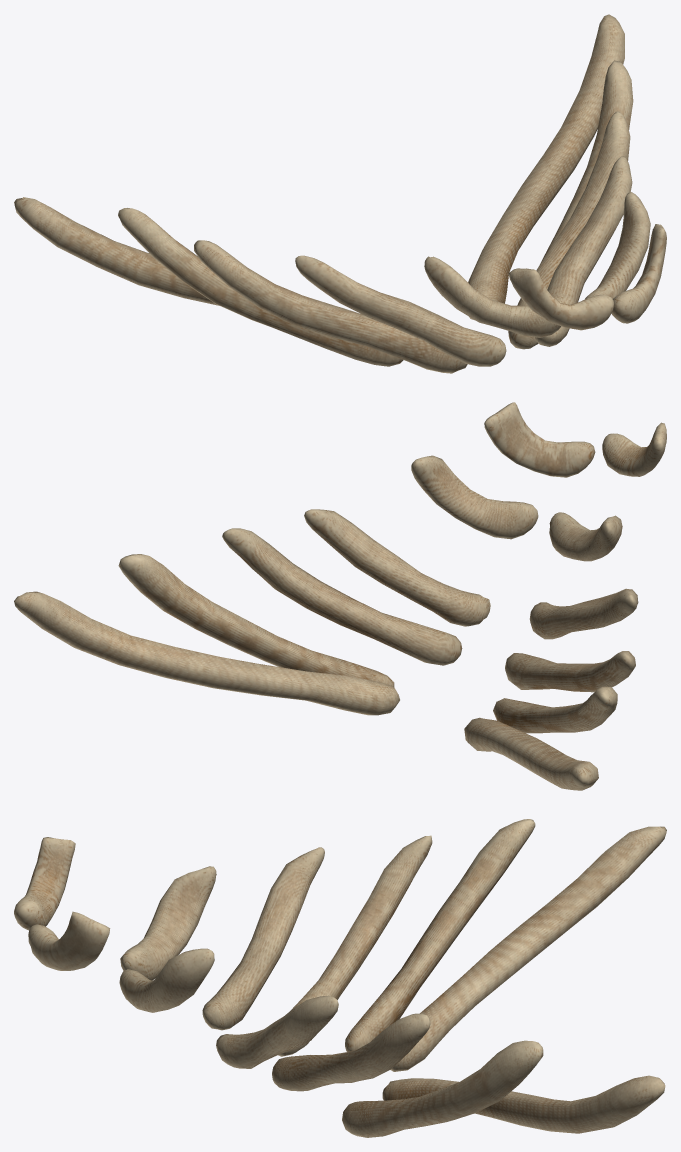
Rendered from Rib_Cartilage.glb.
3 views of the same model, one above another, from view 1: azimuth 30°, elevation 25°; view 2: azimuth 150°, elevation 25°; view 3: azimuth 270°, elevation 25° (orthographic). The views are drawn at different scales.
Parts seen in each view (by area): view 1: RibCartilage1_low; view 2: RibCartilage1_low; view 3: RibCartilage1_low.
Part boxes in pixels (x1,y1,x2,y2): RibCartilage1_low: (14,14,666,373); RibCartilage1_low: (14,402,666,790); RibCartilage1_low: (14,819,666,1137).
Bounding box in the file's own units: 0.3562 × 0.1228 × 0.3254.
1 material, 1 textured.
